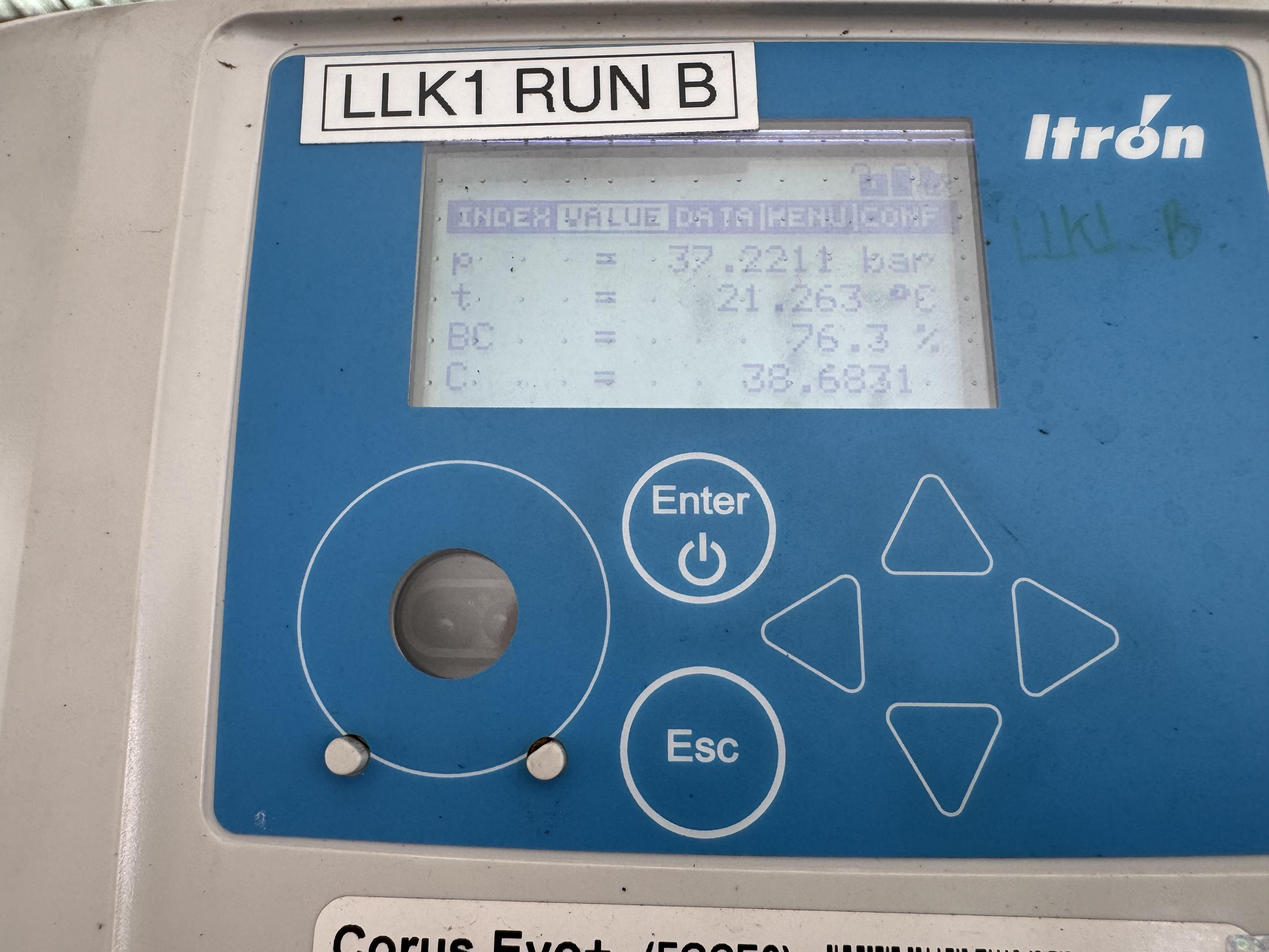digital_screen: (409, 116, 1001, 408)
